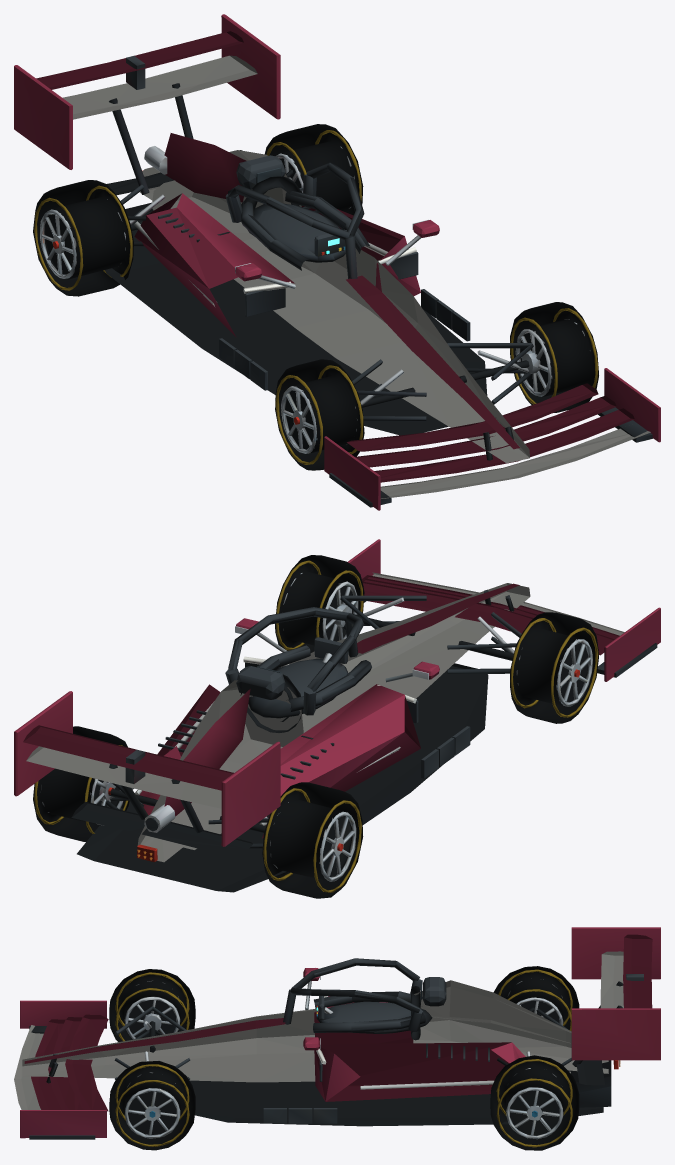
Rendered from pit_kit_1.glb.
The picture shows the model from 3 angles, top to bottom: view 1: azimuth 30°, elevation 25°; view 2: azimuth 150°, elevation 25°; view 3: azimuth 270°, elevation 25°; orthographic projection. The views are drawn at different scales.
Parts seen in each view (by area): view 1: kit_1; view 2: kit_1; view 3: kit_1.
Part boxes in pixels (left/top/right/bottom): kit_1: left=14, top=14, right=660, bottom=510; kit_1: left=14, top=539, right=660, bottom=898; kit_1: left=14, top=927, right=660, bottom=1150.
Bounding box in the file's own units: 2.12 × 1.15 × 5.16.
